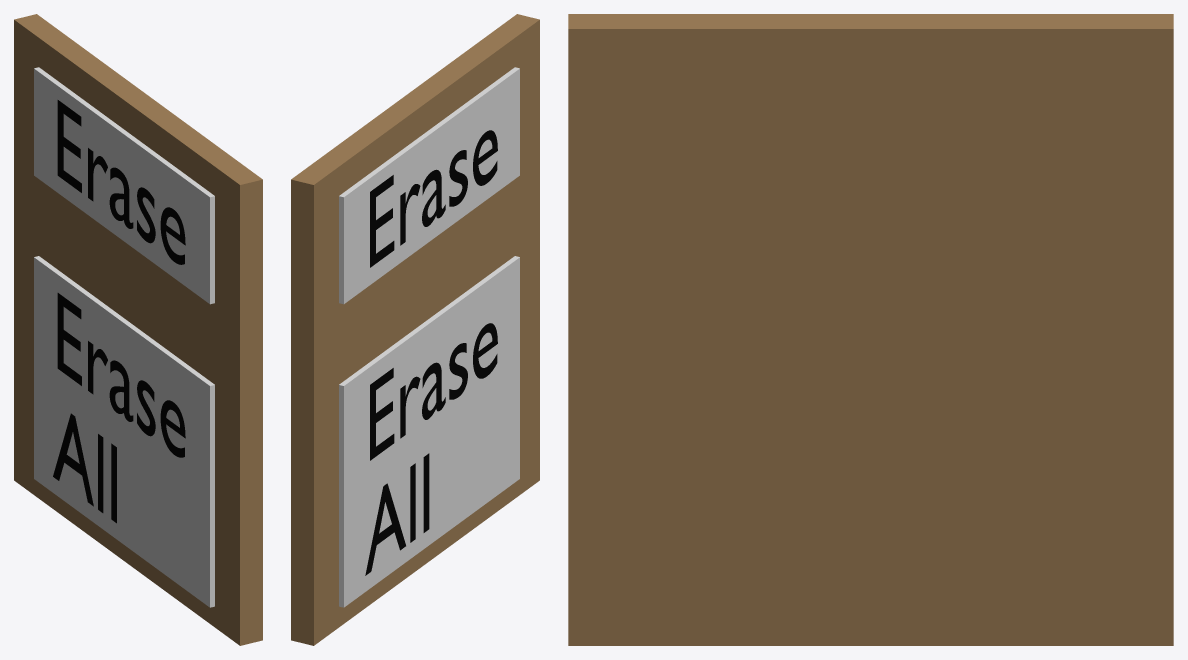
File: EraseBoard.fbx
3 renders of one model, left to right at view 1: azimuth 30°, elevation 25°; view 2: azimuth 150°, elevation 25°; view 3: azimuth 270°, elevation 25°, orthographic. The views are drawn at different scales.
Parts seen in each view (by area): view 1: Plane.006, Plane.009, Plane.008, a.001, a; view 2: Plane.006, Plane.009, Plane.008, a.001, a; view 3: Plane.006.
Part boxes in pixels (bbox=[...]): Plane.006: bbox=[14, 14, 262, 645]; Plane.009: bbox=[34, 256, 214, 607]; Plane.008: bbox=[34, 67, 214, 304]; a.001: bbox=[53, 293, 185, 523]; a: bbox=[57, 100, 185, 264]; Plane.006: bbox=[291, 14, 539, 645]; Plane.009: bbox=[339, 256, 519, 607]; Plane.008: bbox=[339, 67, 519, 304]; a.001: bbox=[365, 323, 497, 575]; a: bbox=[370, 130, 497, 267]; Plane.006: bbox=[568, 14, 1173, 645].
Size of the model in its own units: 14.85 by 225 by 200.
